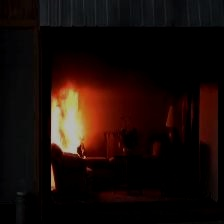fire: (42, 74, 100, 158)
